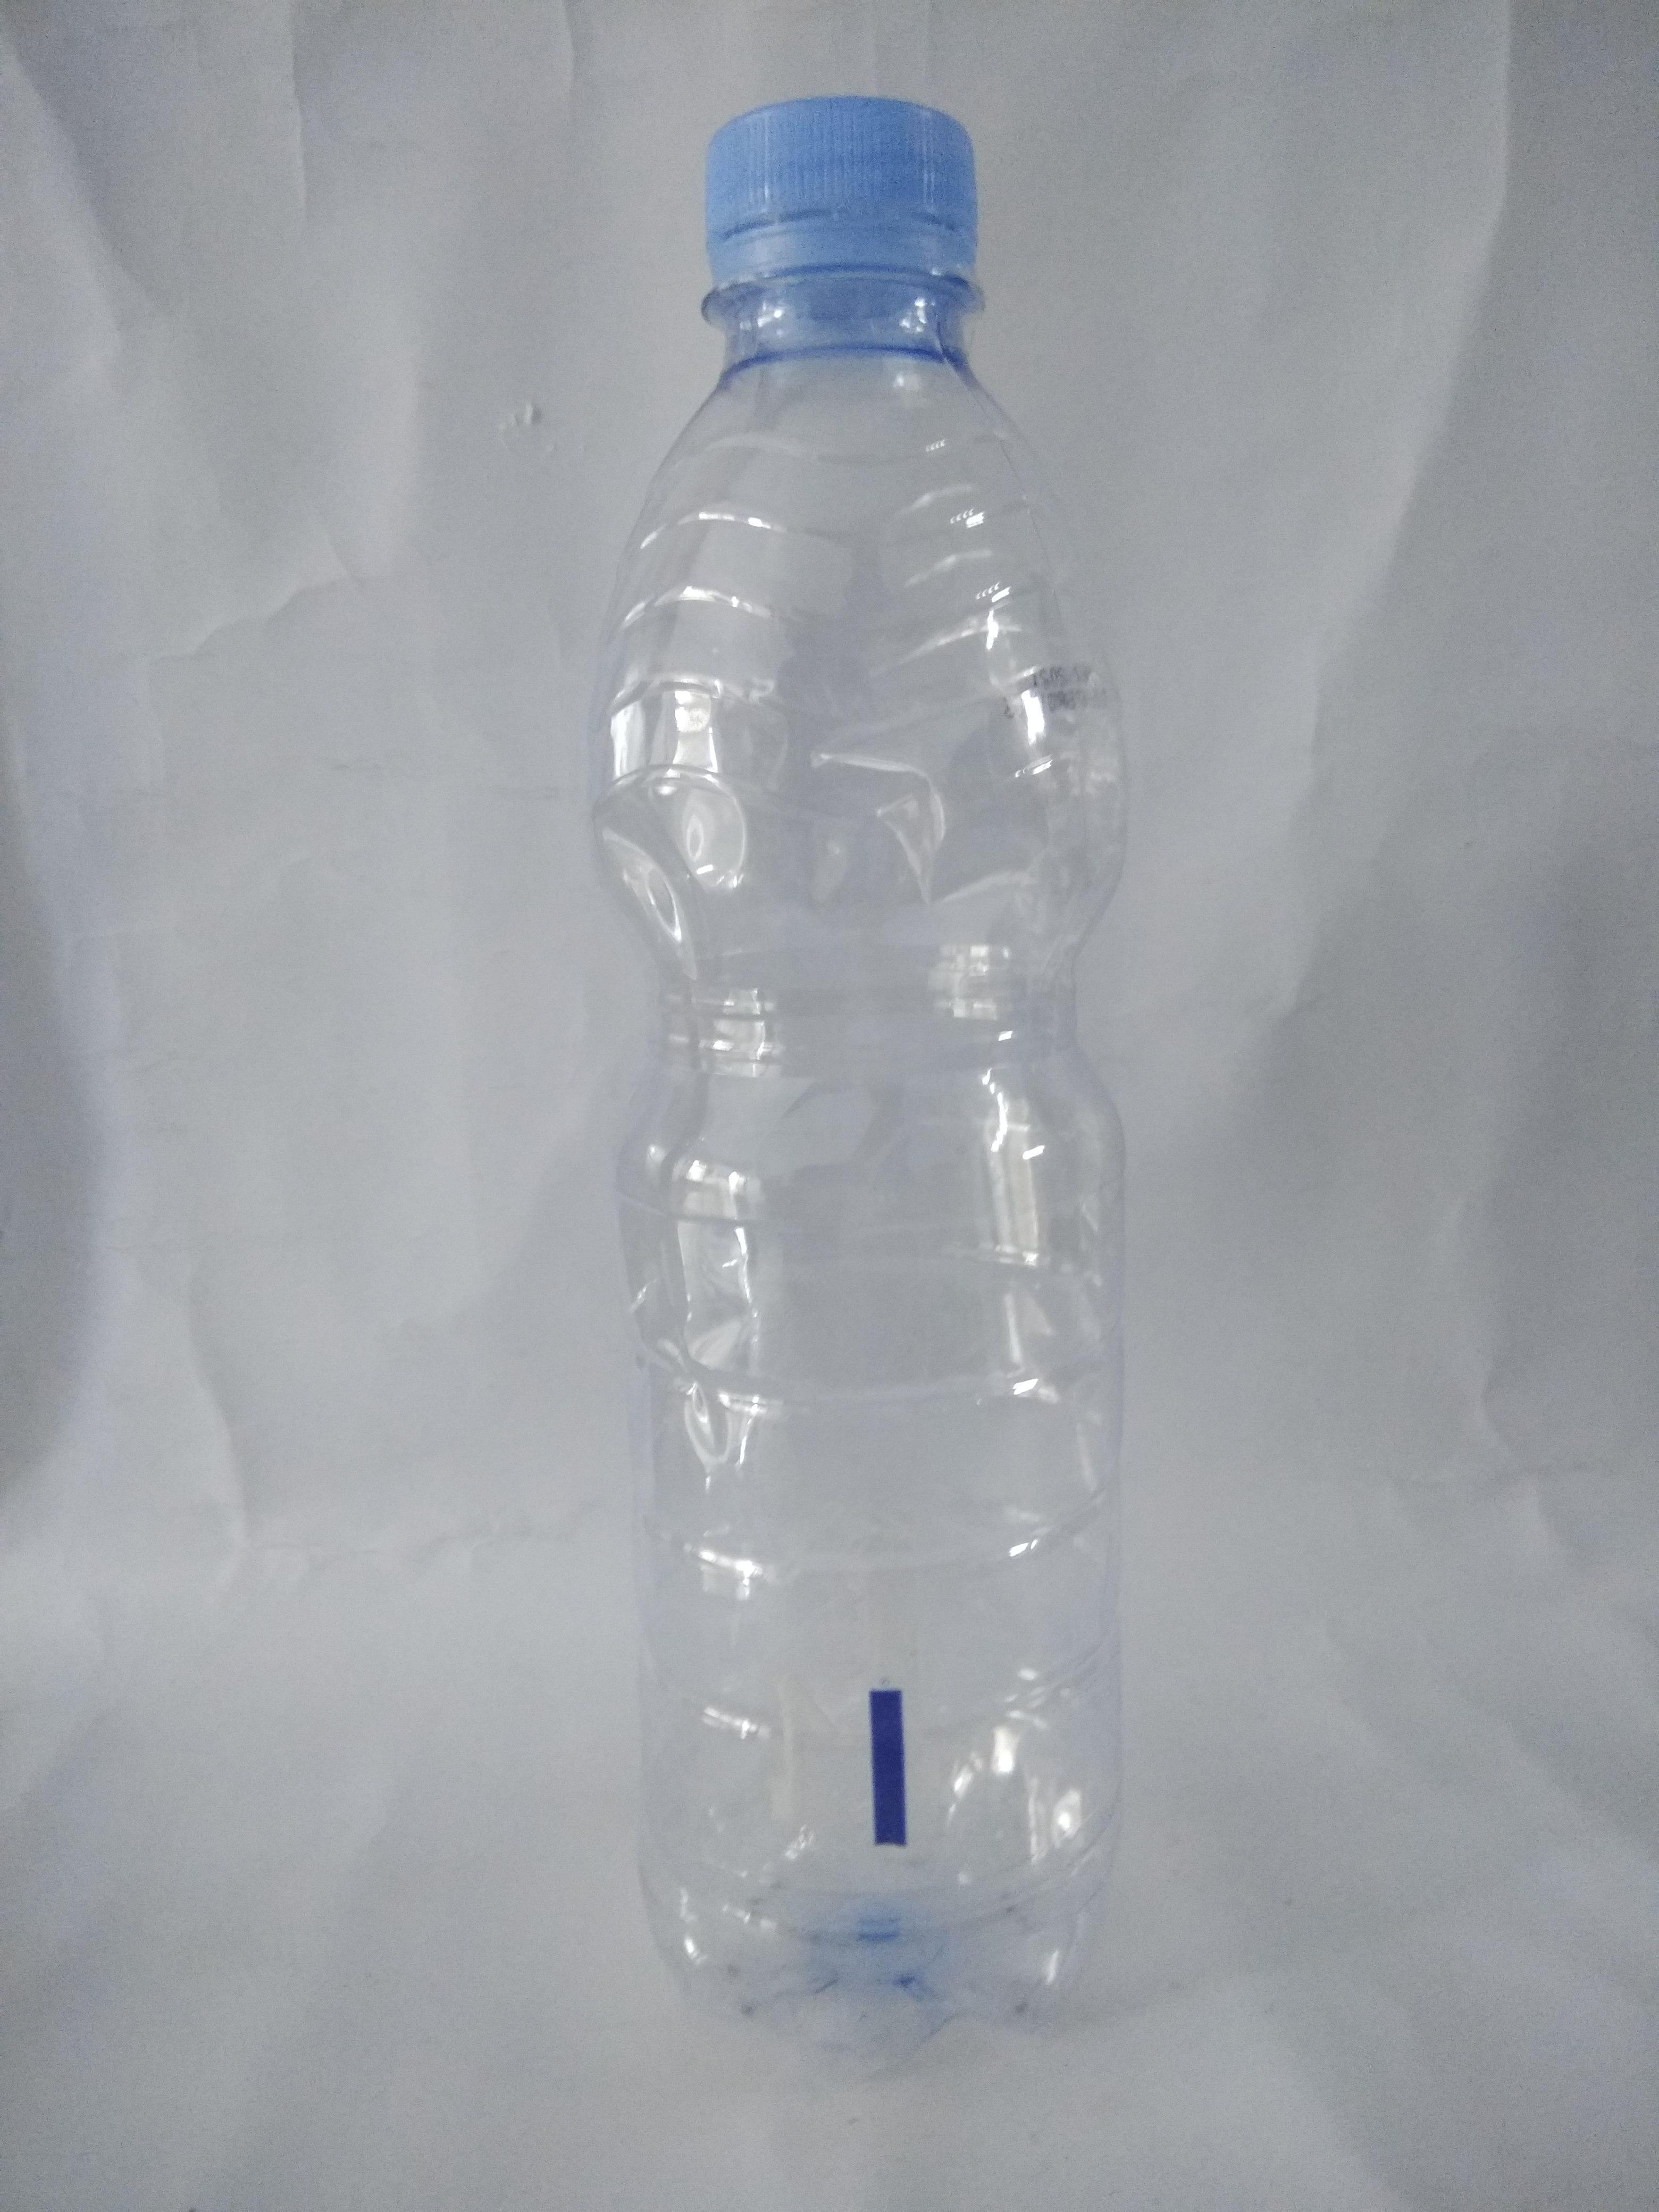HDPE: (624, 38, 1061, 368)
PETE: (512, 341, 1270, 2127)
